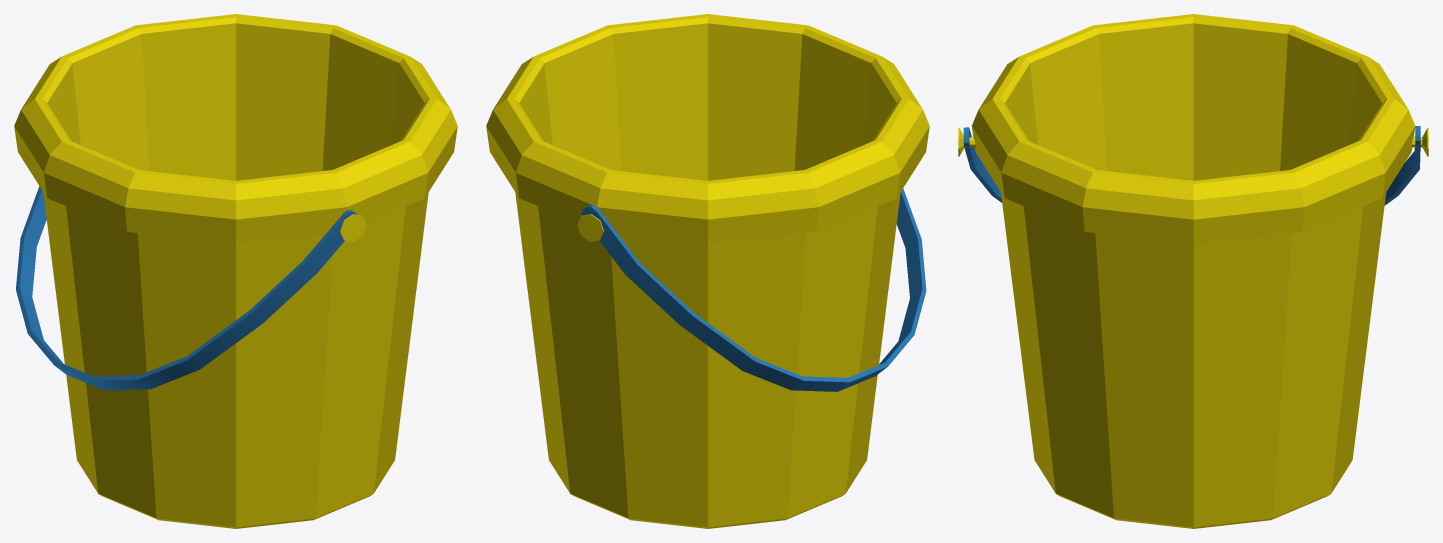
Rendered from empty_bucket.fbx.
3 renders of one model, left to right at view 1: azimuth 30°, elevation 25°; view 2: azimuth 150°, elevation 25°; view 3: azimuth 270°, elevation 25°, orthographic.
Parts seen in each view (by area): view 1: bucket_wiothout_water; view 2: bucket_wiothout_water; view 3: bucket_wiothout_water.
Boxes of the visible parts, <box> form: bucket_wiothout_water: <box>14,14,457,528</box>; bucket_wiothout_water: <box>486,14,929,528</box>; bucket_wiothout_water: <box>958,14,1428,528</box>.
Bounding box in the file's own units: 0.8155 × 0.7519 × 0.8645.
